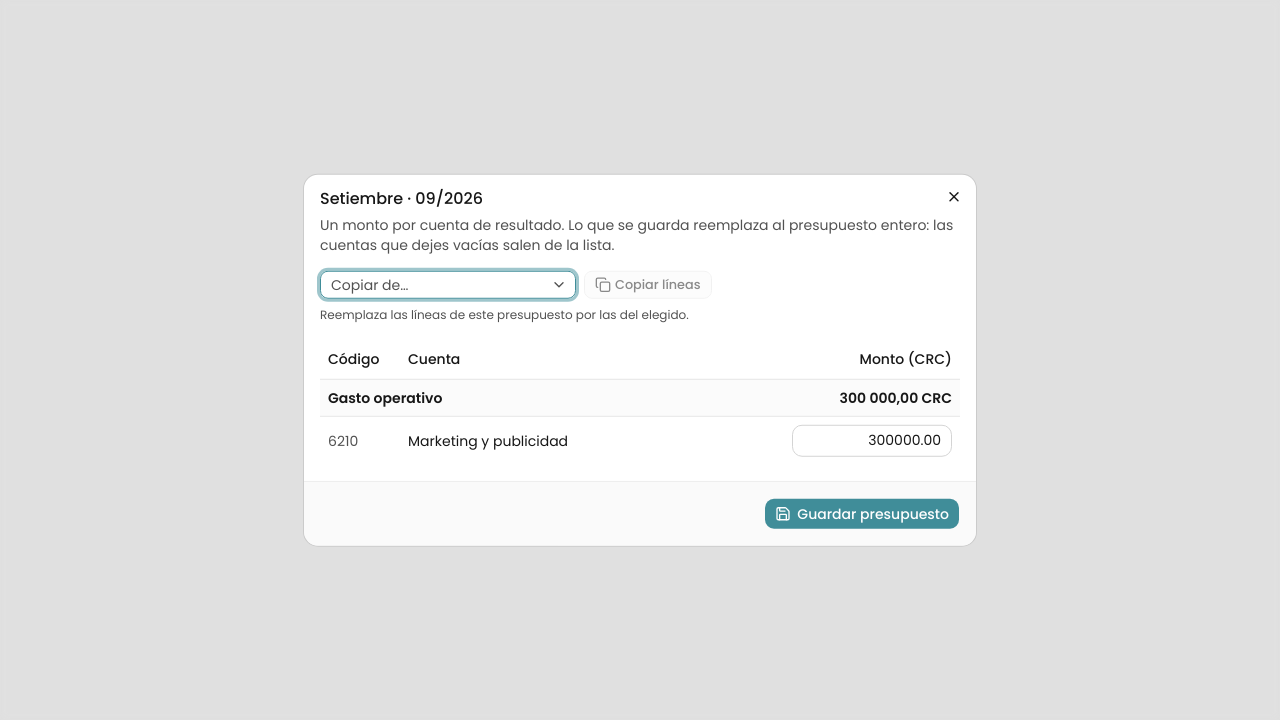
FinanceBudgetLinesDialog — el subtotal por clase sigue lo tecleado › se recalcula al escribir, en vez de repetir el total guardado
Expected: the text "300 000,00 CRC" is shown, 784,379 -> 960,416
Replace the text in the field named "Monto de 6210 Marketing y publicidad" with "450000.50" at point(872, 440), box 792,424 -> 952,456
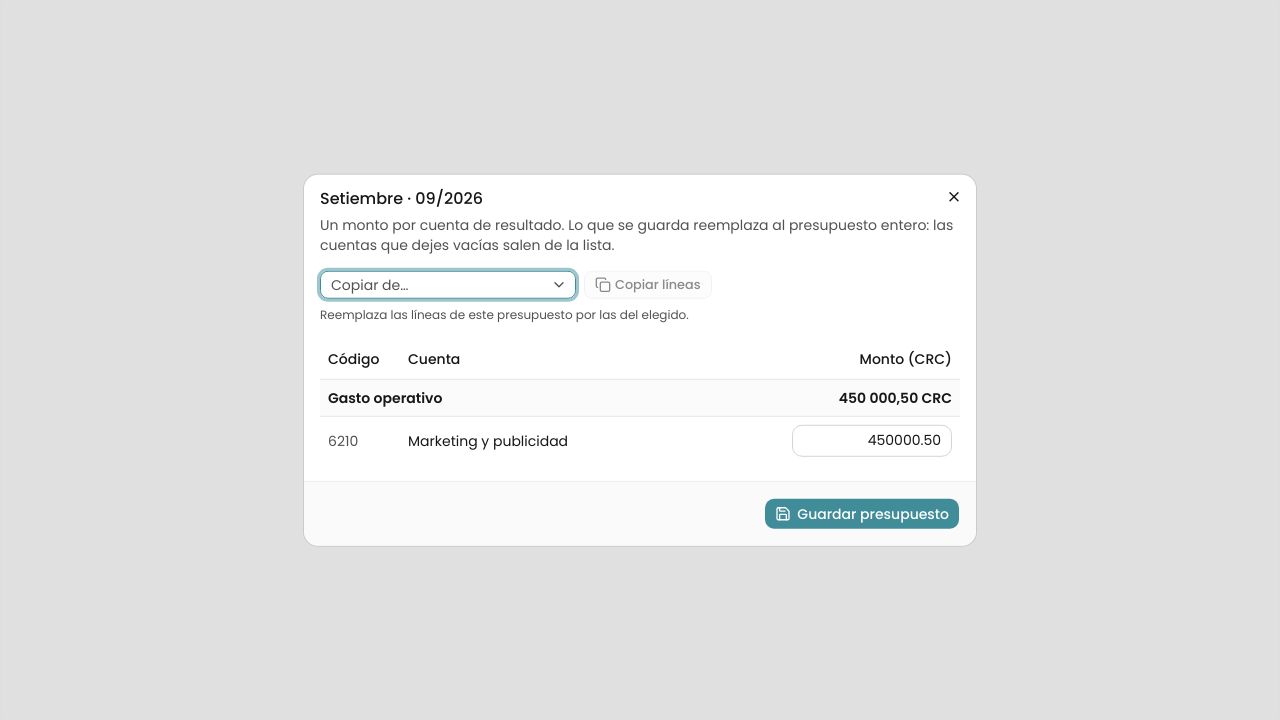
Result: the text "450 000,50 CRC" is shown at 784,379 -> 960,416
